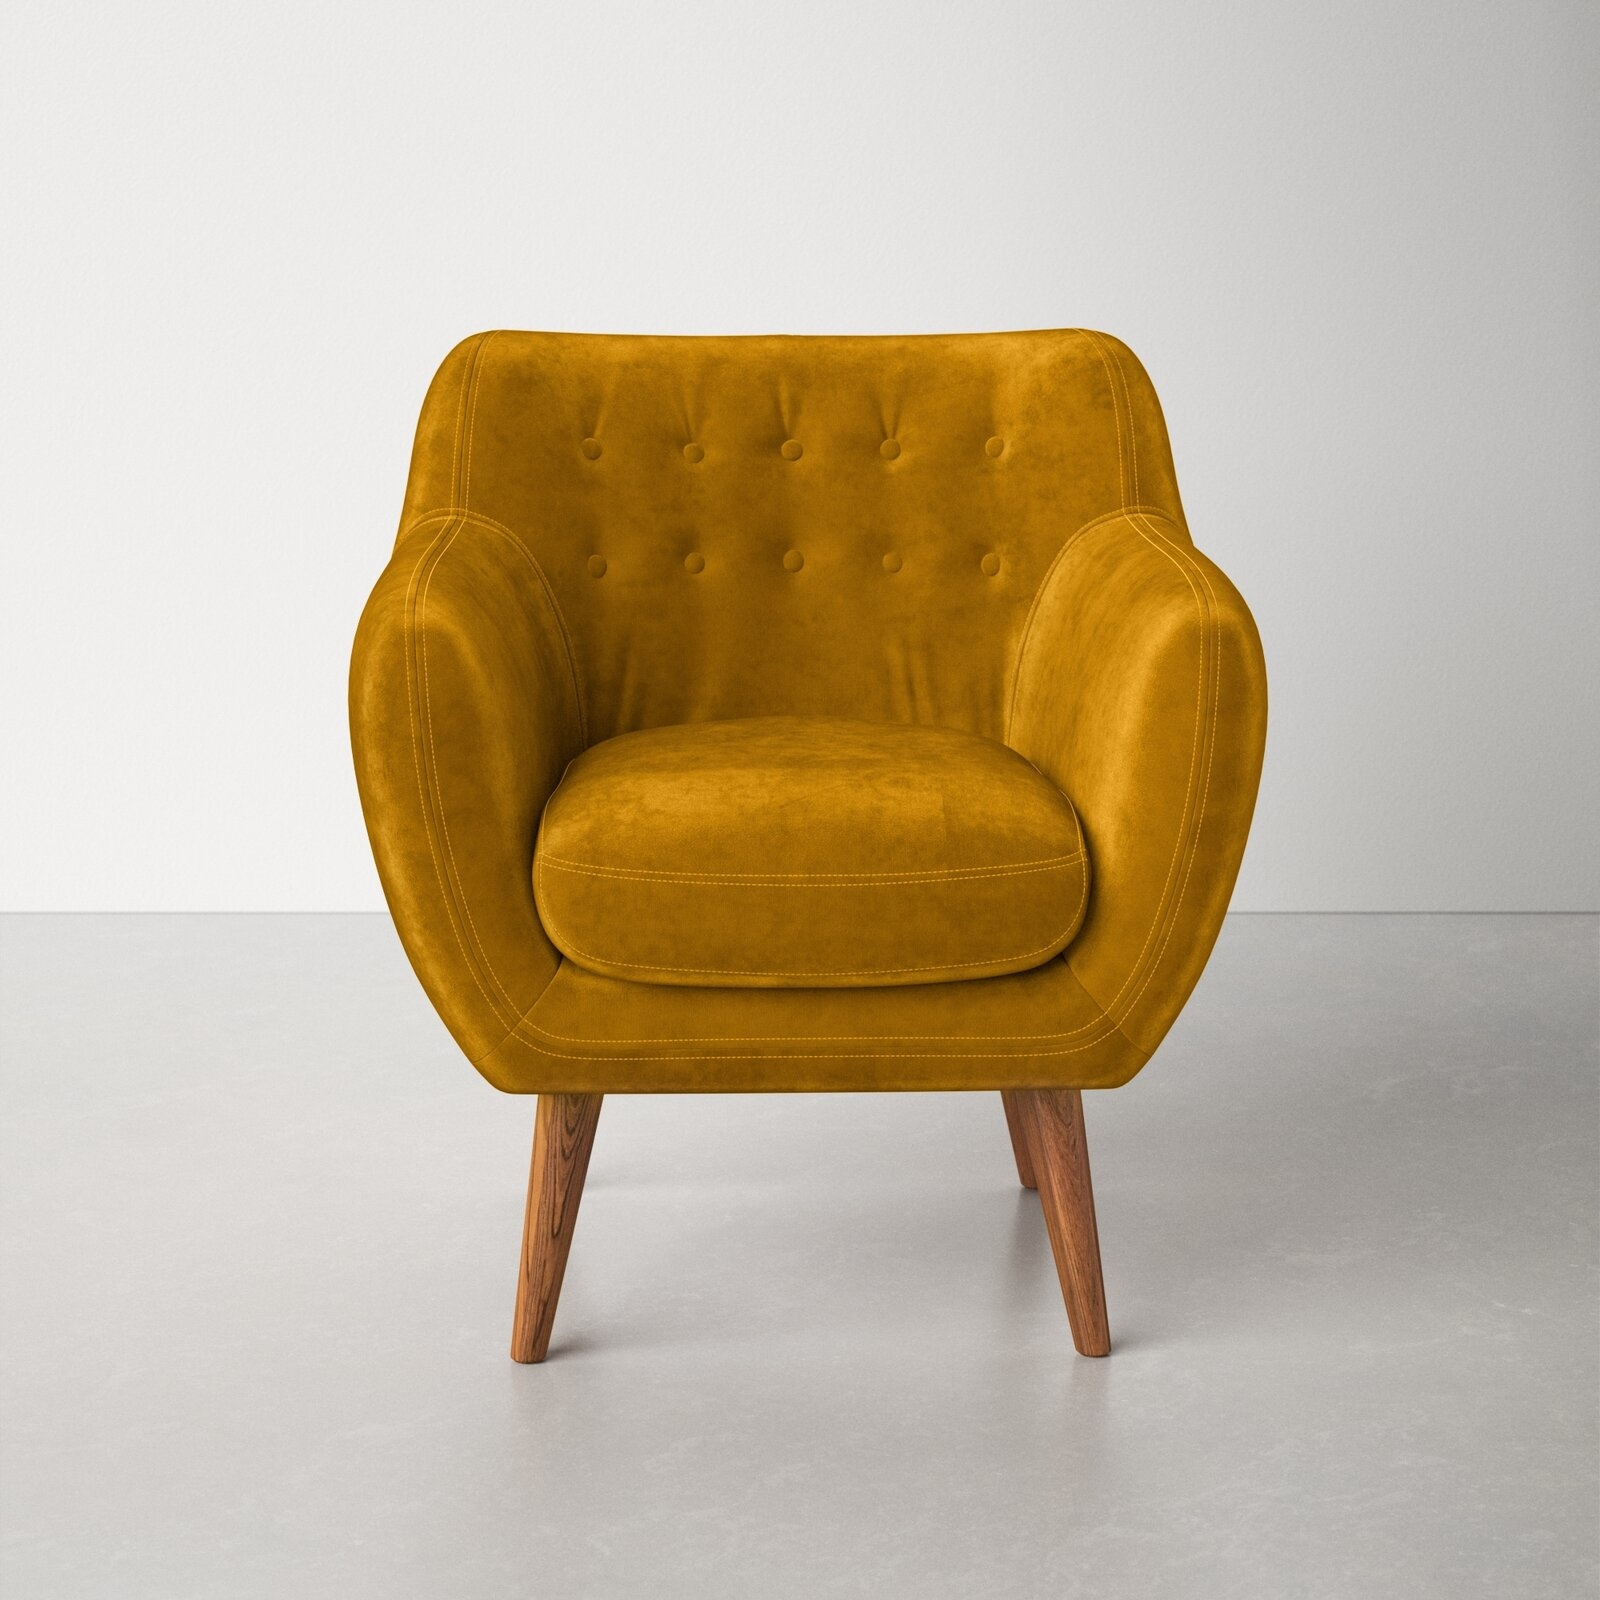obstacle: (350, 330, 1264, 1360)
